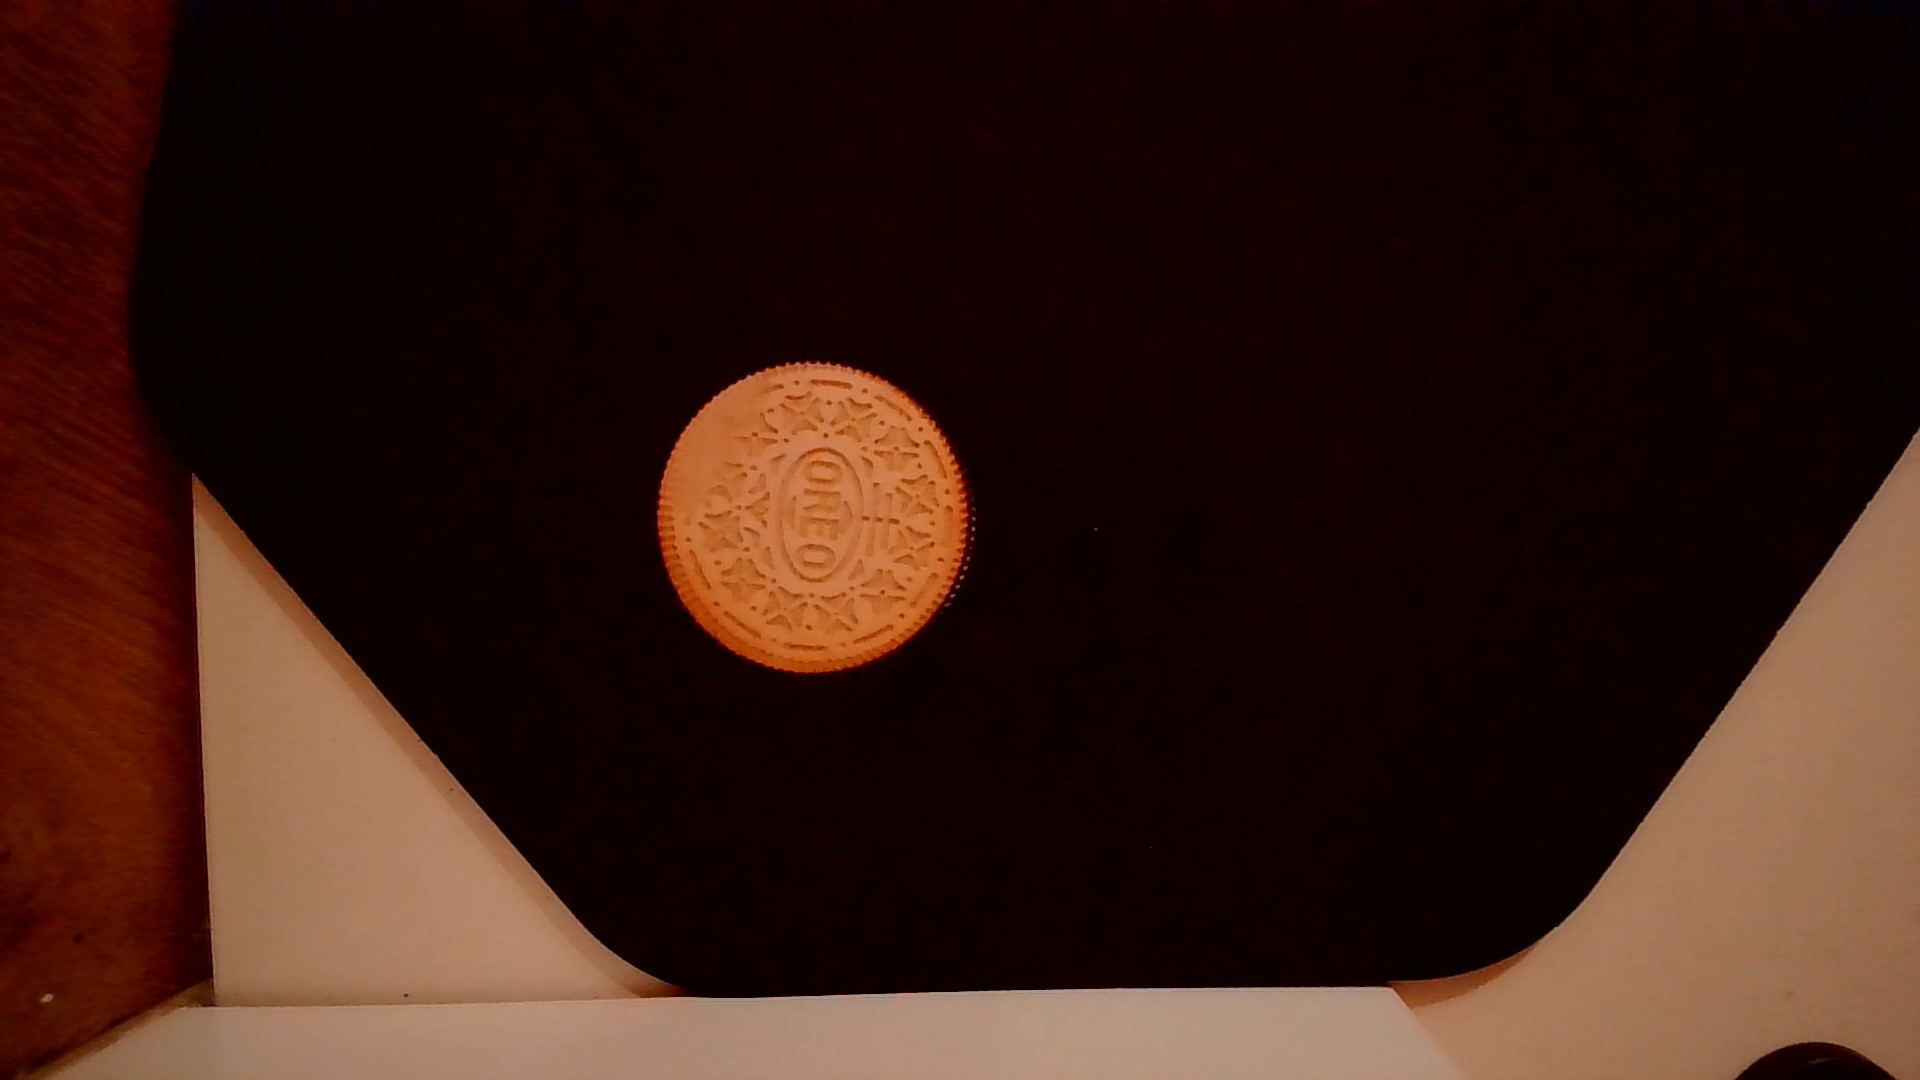Effacé: (659, 376, 767, 526)
Oréo: (651, 345, 982, 688)
